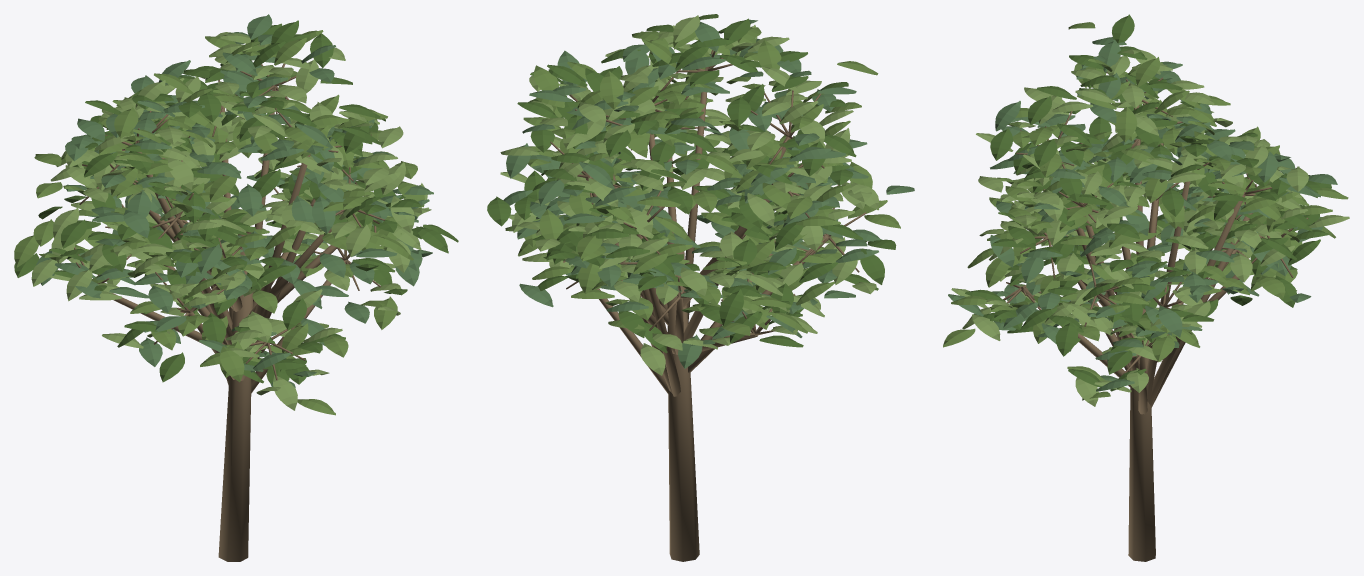
The model's file is street-tree-v1.glb.
The picture shows the model from 3 angles, left to right: view 1: azimuth 30°, elevation 25°; view 2: azimuth 150°, elevation 25°; view 3: azimuth 270°, elevation 25°; orthographic projection. The views are drawn at different scales.
Visible parts, largest first — view 1: Tapered branch; view 2: Tapered branch; view 3: Tapered branch.
Boxes of the visible parts, <box> form: Tapered branch: <box>14,14,458,561</box>; Tapered branch: <box>487,14,914,561</box>; Tapered branch: <box>943,14,1349,561</box>.
Bounding box in the file's own units: 2.6 × 3.46 × 2.69.
